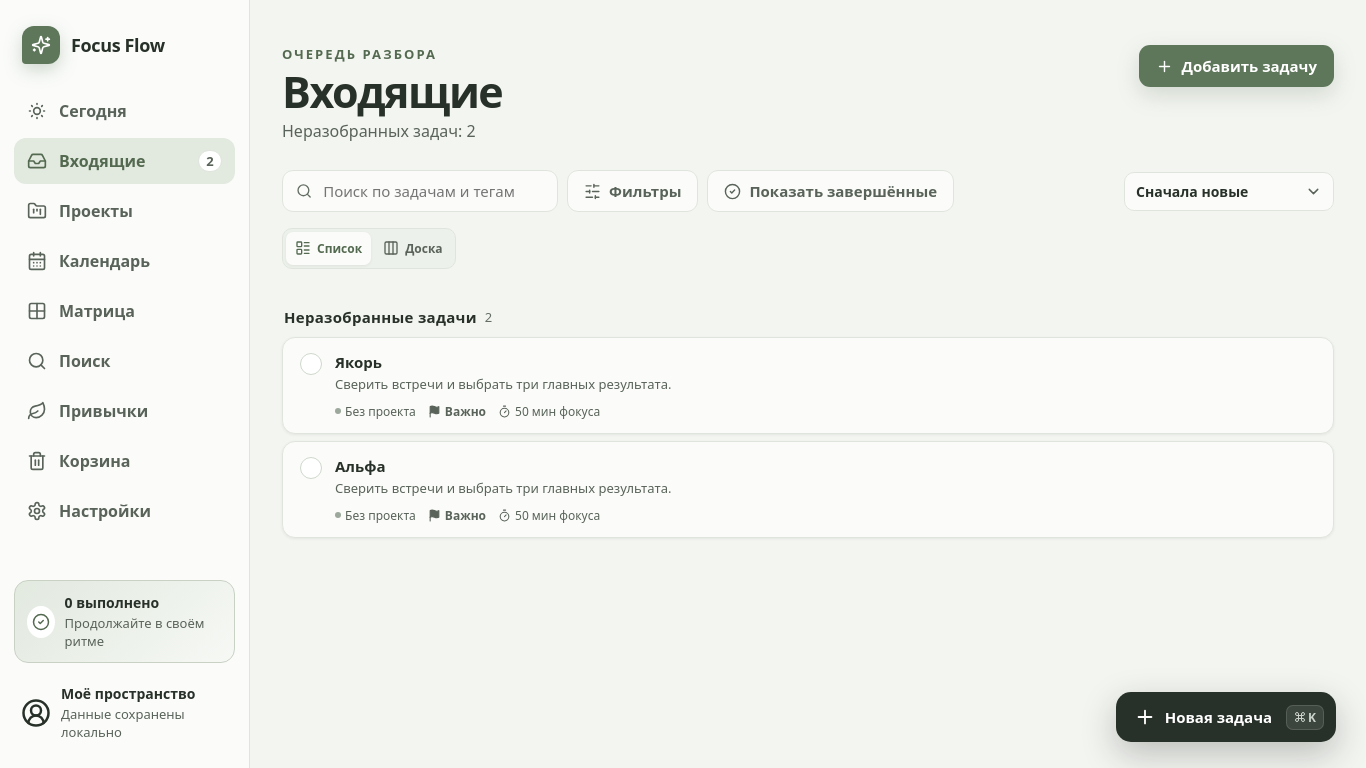
Test: inbox layouts and focus › switches list and board views and sorts tasks without a calendar shortcut
This screenshot has width=1366, height=768.
Expected: the heading "Входящие" is shown, [282,70,502,113]
Expected: the link "Входящие 2" is shown, [14,138,235,184]
Click the dropdown named "Сортировка входящих": (1229, 191) [1124,172,1334,210]
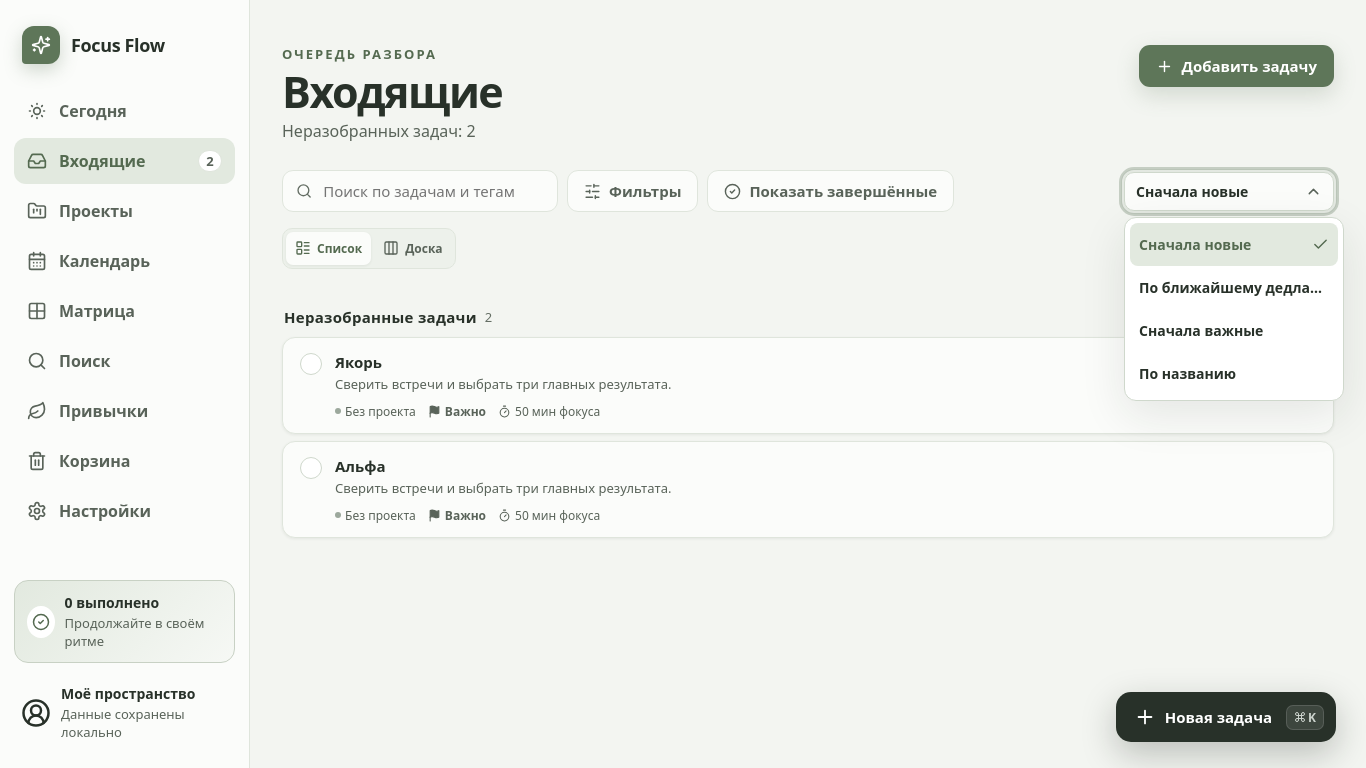
Click the option "По названию": (1234, 373) [1130,352,1338,394]
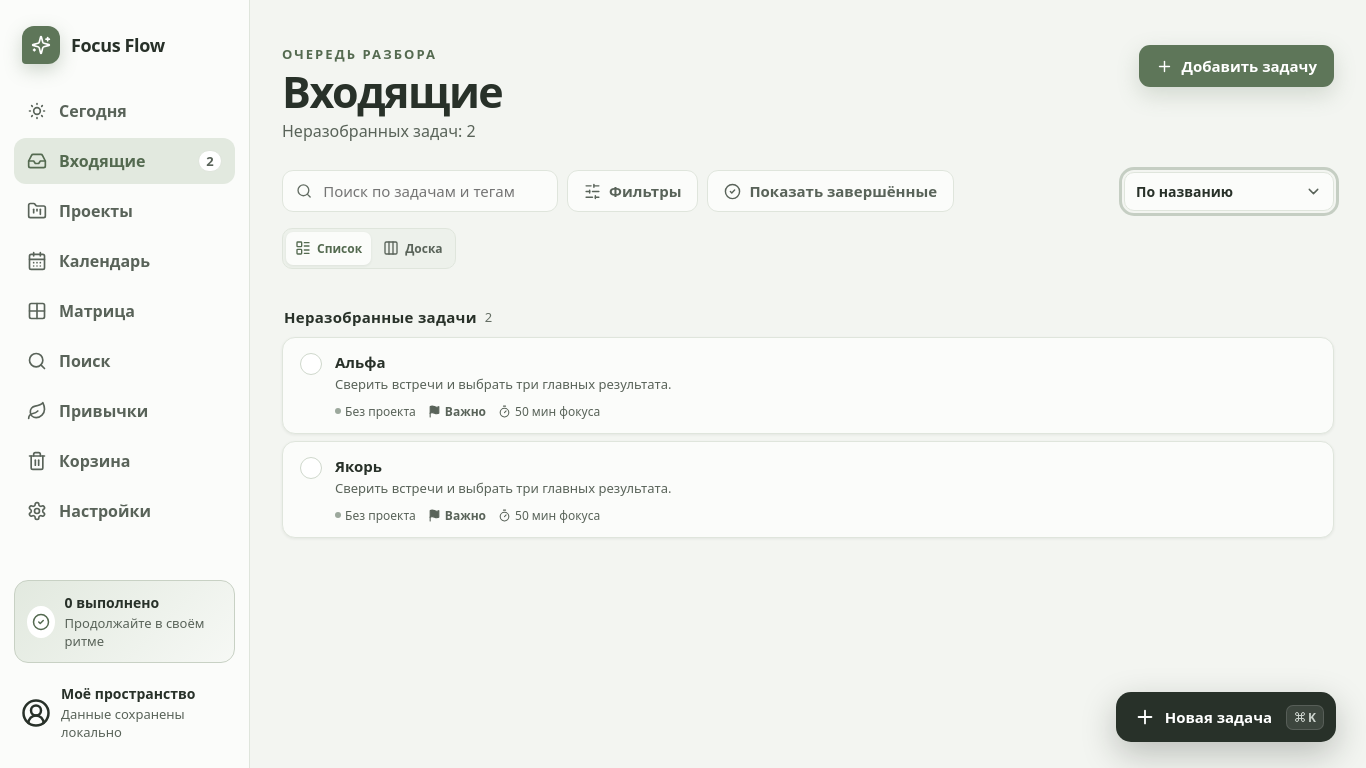
Expected: the text with class "task-card__title" reads "Альфа", [335,352,386,372]
Click the button with aria-label "Вид: Доска": (413, 248) [374,232,452,264]
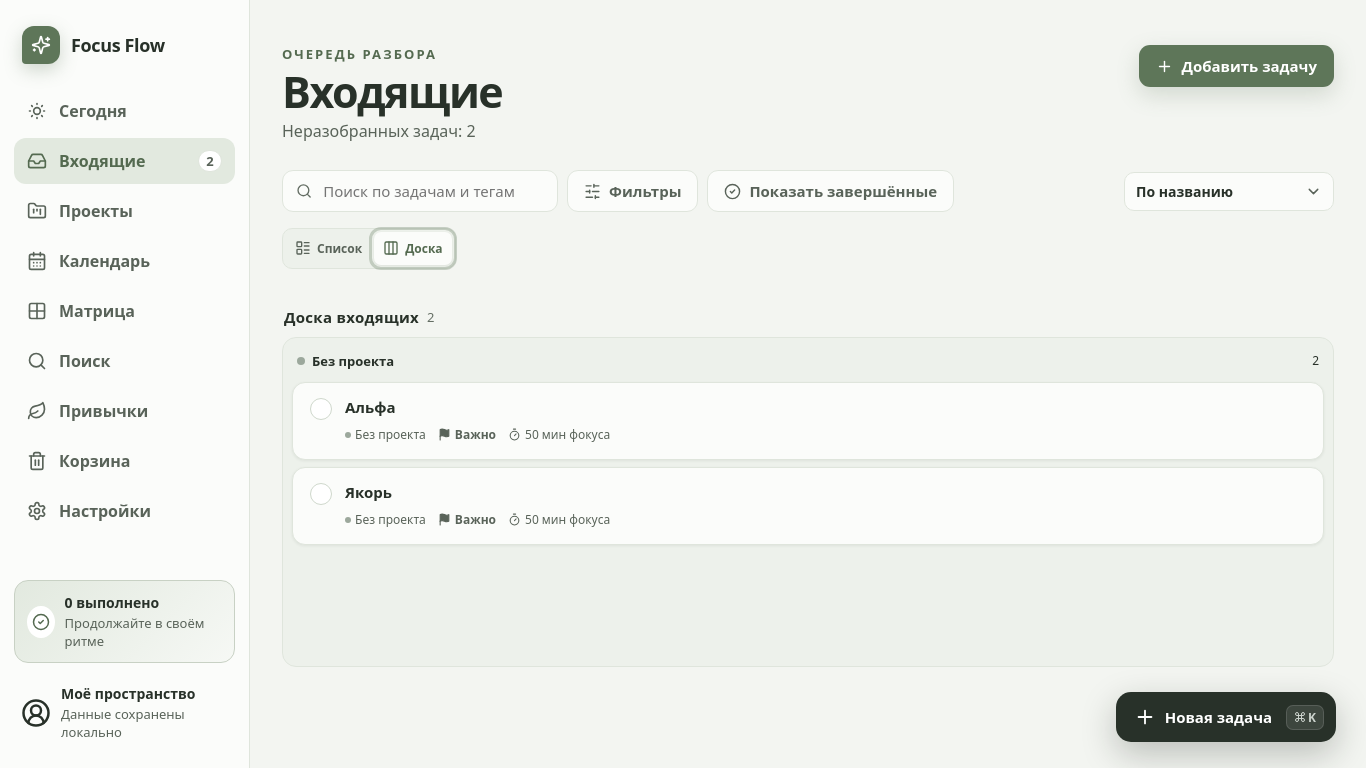
Now the text "Альфа" is shown, box [345,397,396,417]
Now the heading "Доска входящих" is shown, box [284,307,419,327]
Now the element with class "inbox-board" is shown, box [282,337,1334,675]
